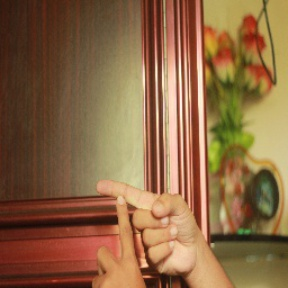T: (81, 171, 174, 280)
